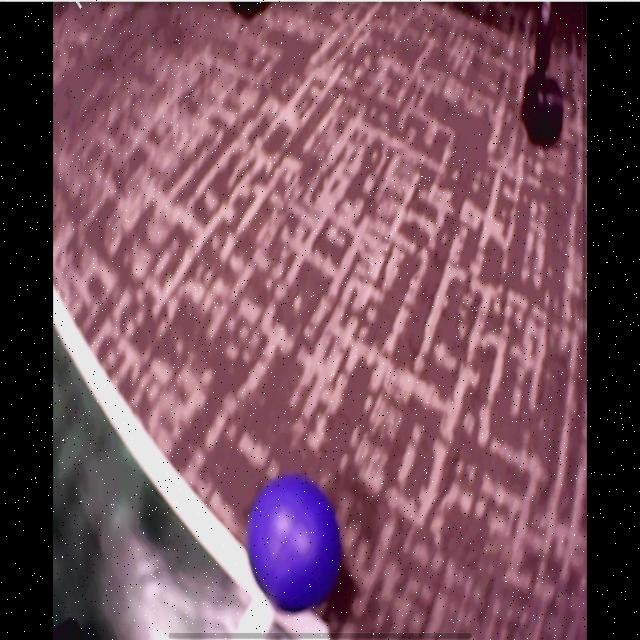ball: (247, 476, 341, 612)
